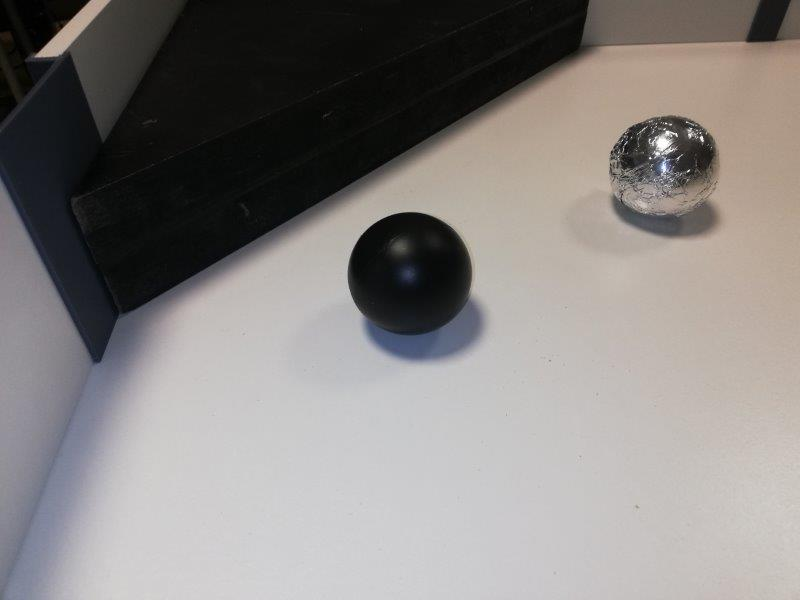bianca: (609, 112, 717, 219)
nera: (347, 211, 474, 336)
